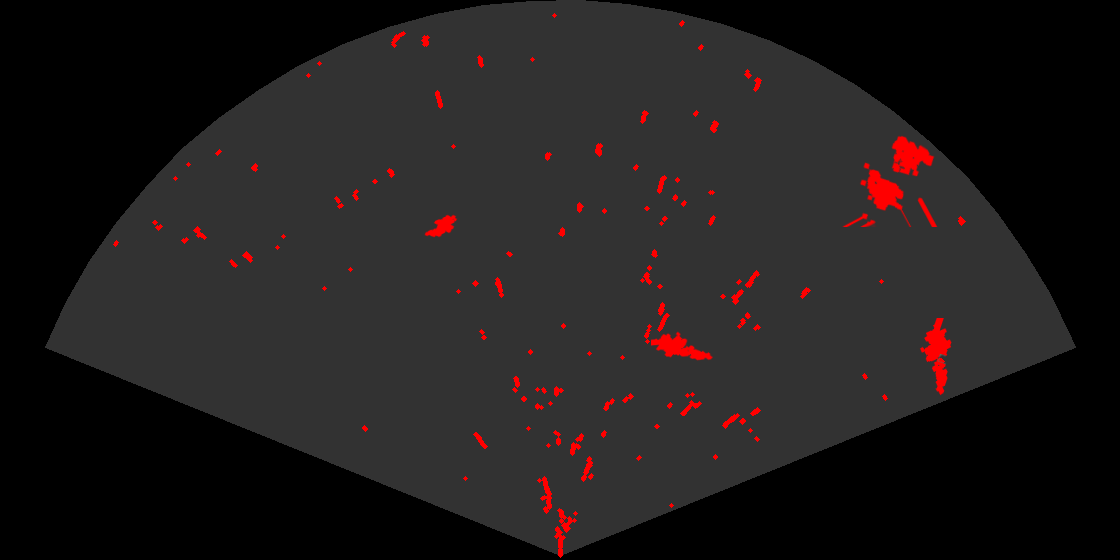AUV: (423, 213, 459, 239)
cage: (841, 134, 939, 227)
frogman: (919, 318, 953, 397), (651, 330, 713, 362)
